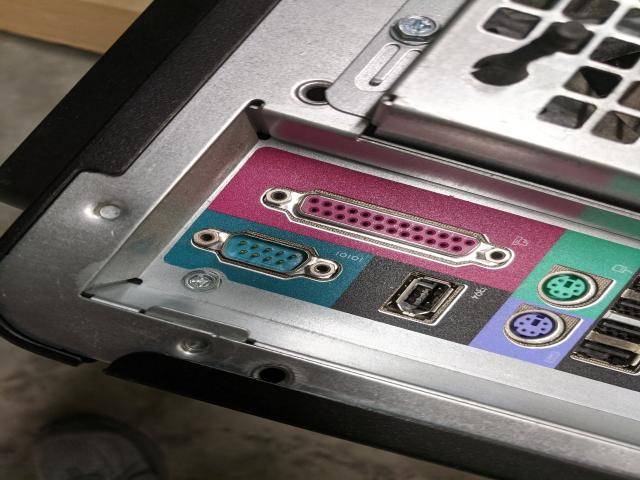CRS: (387, 13, 447, 43), (178, 266, 224, 295)
